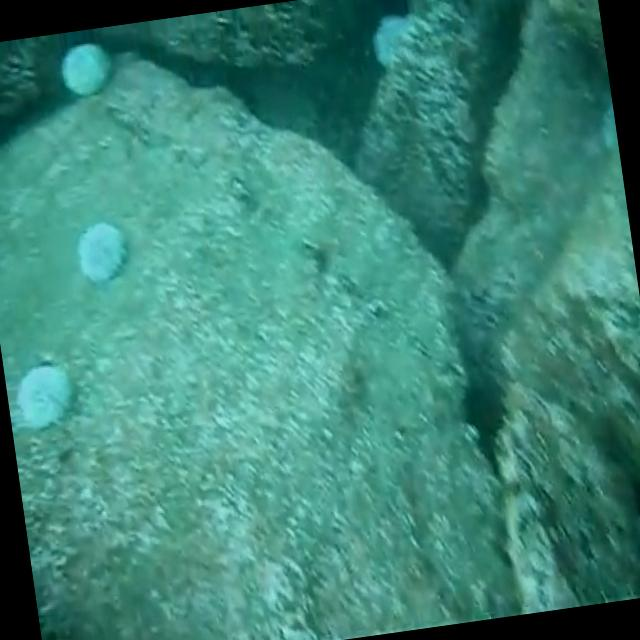Deniz Kestanesi: (62, 201, 136, 298), (8, 346, 82, 441), (54, 39, 119, 104)
